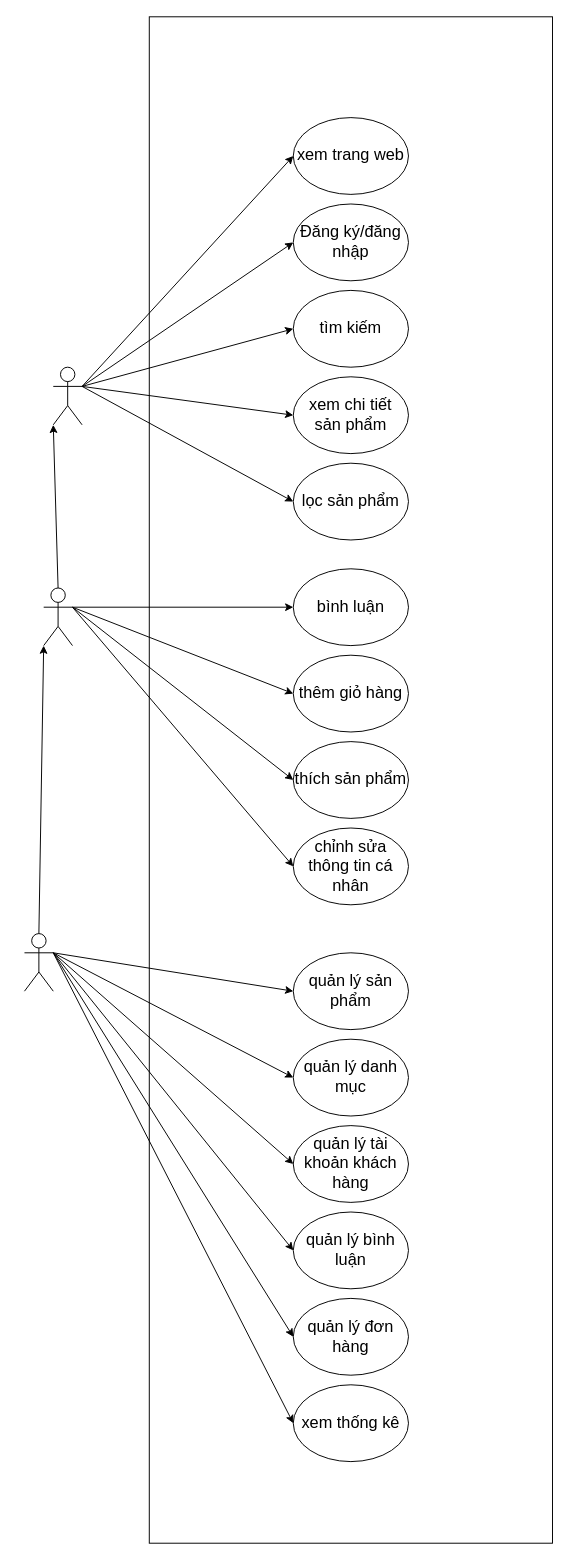
This 569x1560 diagram has some shape labels left out. Here are the shapes that lost their labels. From the top down, the centre of each, then its label:
point (67, 395): guest
point (57, 616): user
point (38, 962): admin
